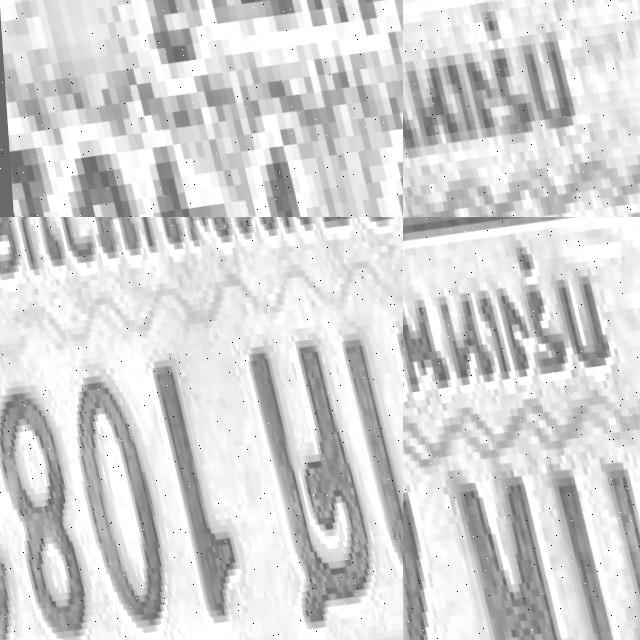license-plate: (0, 217, 403, 640), (403, 217, 640, 640), (0, 0, 403, 217), (403, 0, 640, 217)
